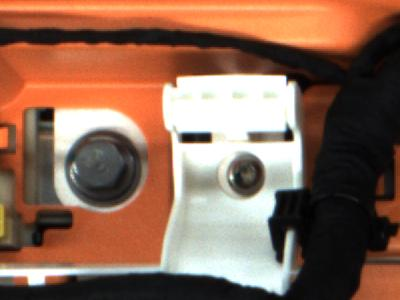nut_b: (60, 128, 144, 204)
